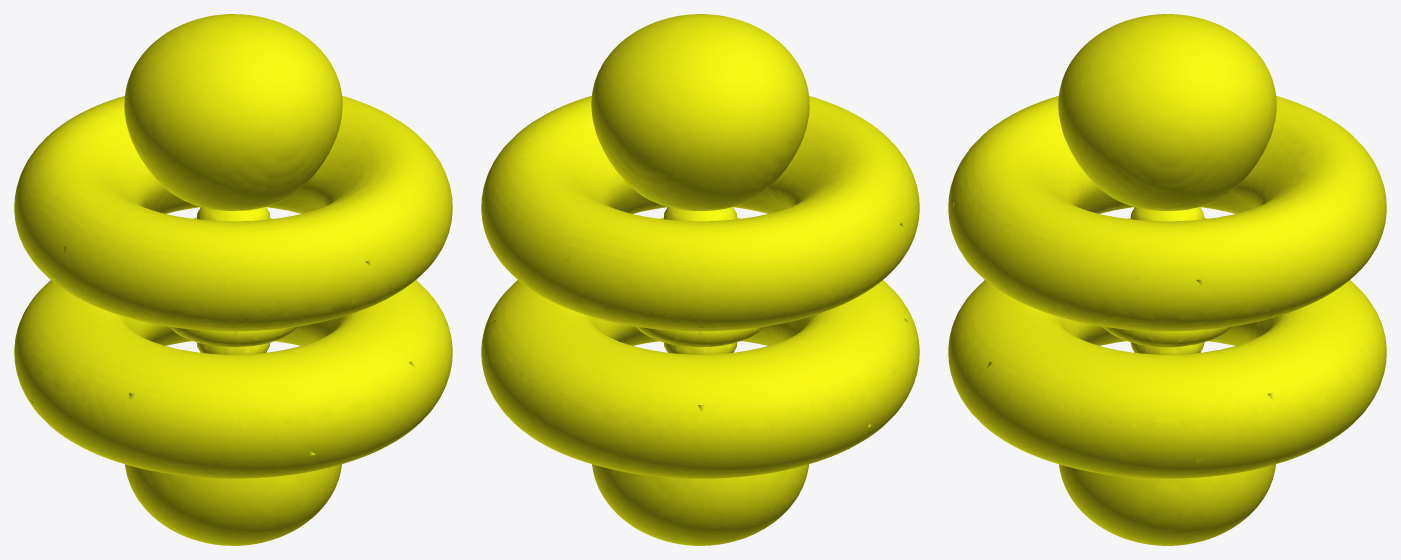
The model's file is orb_n=5_ l=3 _m=0.fbx.
3 views of the same model, side by side, from view 1: azimuth 30°, elevation 25°; view 2: azimuth 150°, elevation 25°; view 3: azimuth 270°, elevation 25° (orthographic).
Parts seen in each view (by area): view 1: orb_n=5_ l=3 _m=0; view 2: orb_n=5_ l=3 _m=0; view 3: orb_n=5_ l=3 _m=0.
Part boxes in pixels (box(x1,y1,x2,y2)): orb_n=5_ l=3 _m=0: box(14, 14, 452, 545); orb_n=5_ l=3 _m=0: box(481, 14, 919, 545); orb_n=5_ l=3 _m=0: box(948, 14, 1386, 545).
Bounding box in the file's own units: 9027 × 11506 × 9027.
